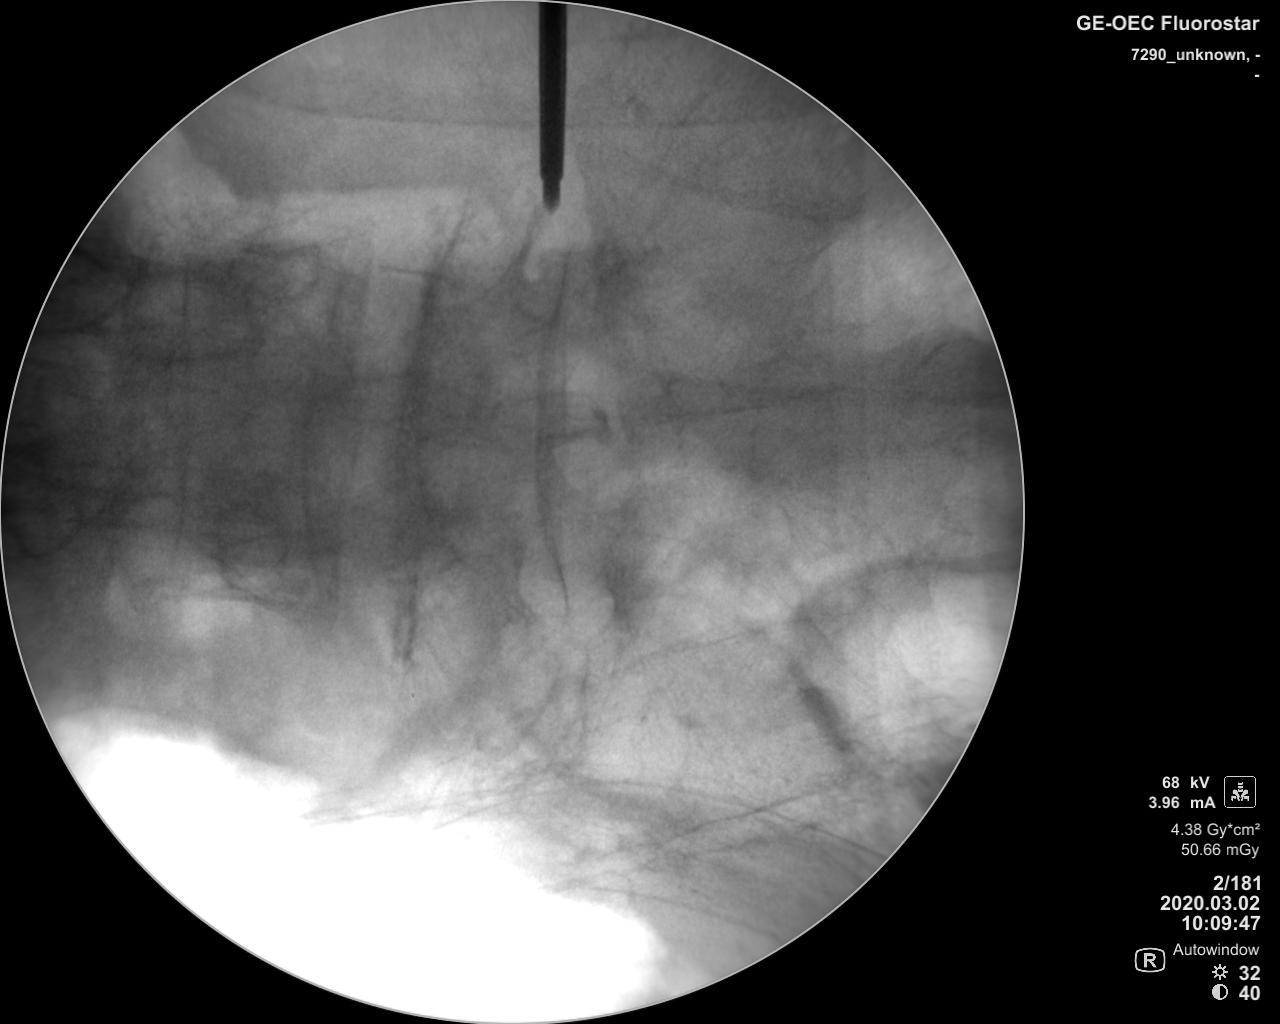eyes: (213, 534, 321, 608), (239, 259, 340, 338), (115, 495, 189, 579), (127, 267, 214, 329)
line: (390, 220, 449, 673), (529, 240, 580, 616), (298, 236, 341, 627), (160, 245, 191, 575)
nose: (300, 370, 423, 425), (481, 388, 608, 439)
